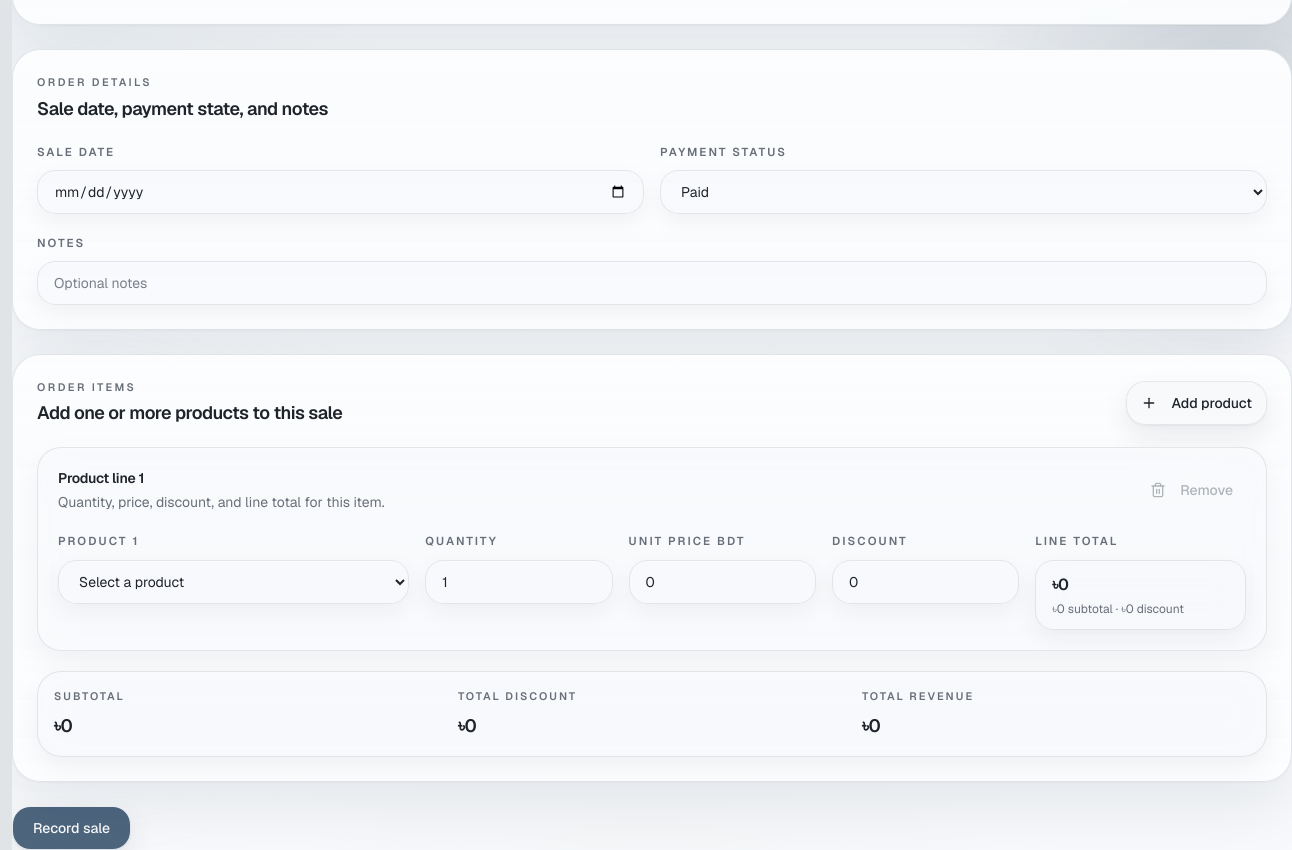
Test: SaleForm › shows order total summary
(page scrolled)
Step 1. Select "Soap · SOAP-01 · Suggested ৳1,200 · BD stock 9" in the dropdown labelled "Product 1" → (234, 582), box [58,560,409,604]
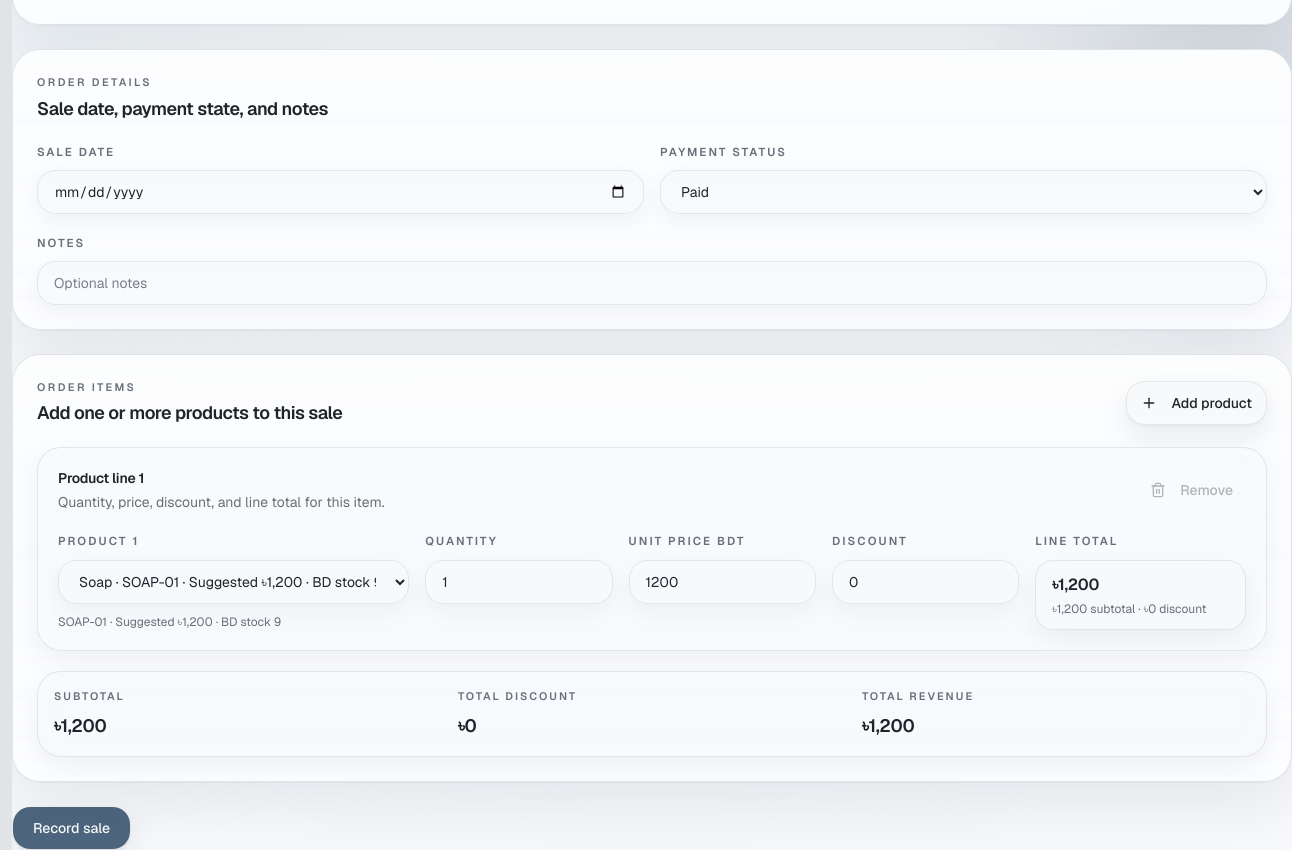
Step 2. Replace the text in the number field labelled "Quantity" with "2" → (519, 582), box [425,560,613,604]
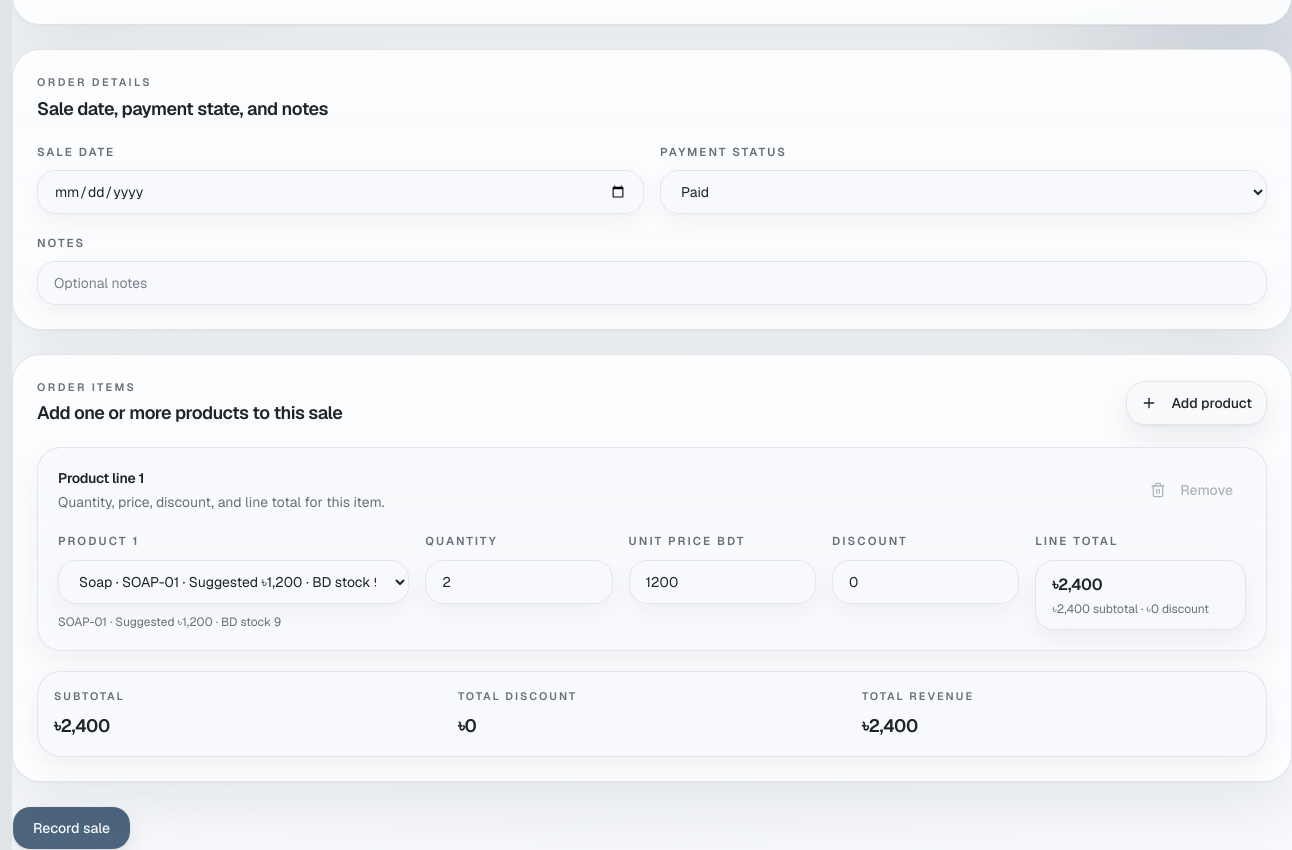
Step 3. Replace the text in the number field labelled "Unit price BDT" with "1000" → (722, 582), box [629,560,816,604]
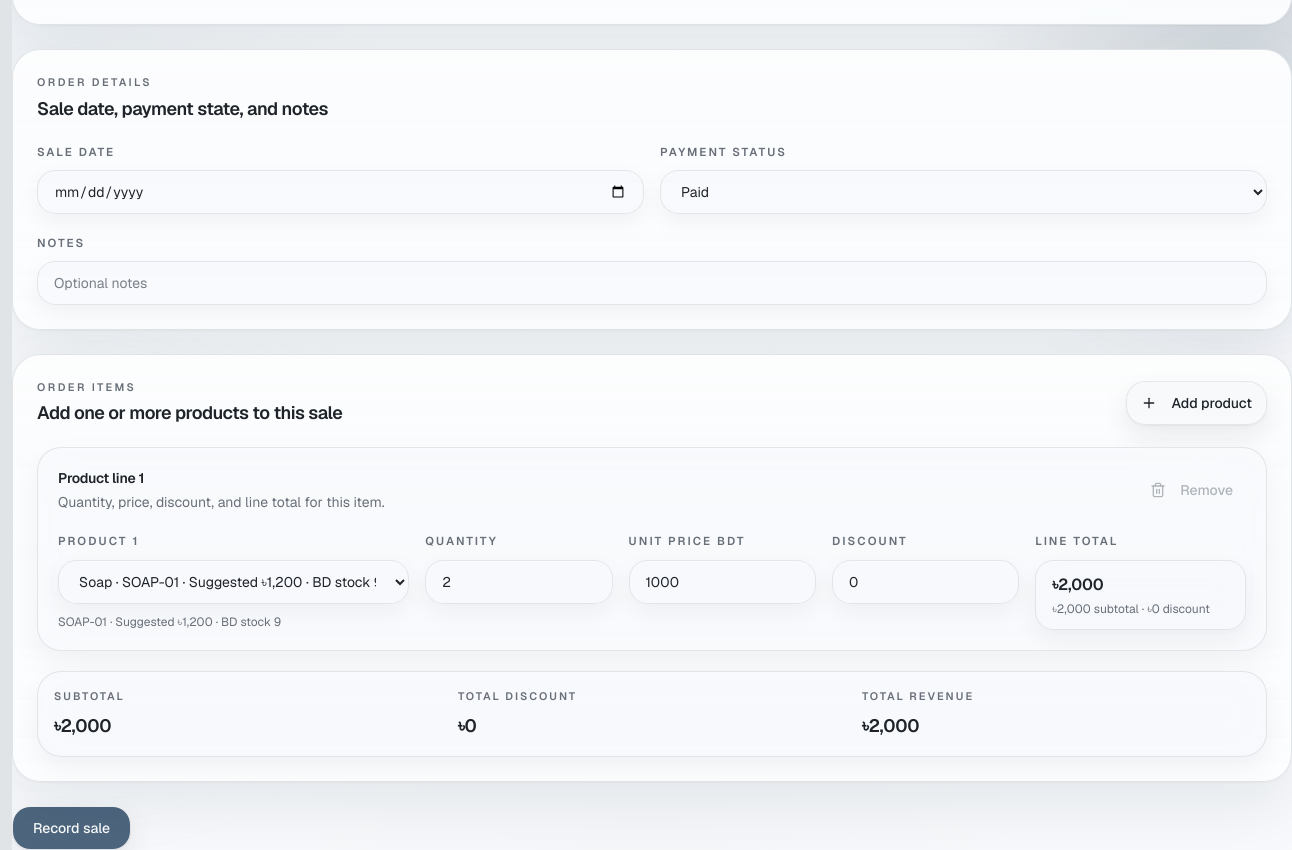
Step 4. Replace the text in the number field labelled "Discount" with "100" → (926, 582), box [832,560,1019,604]
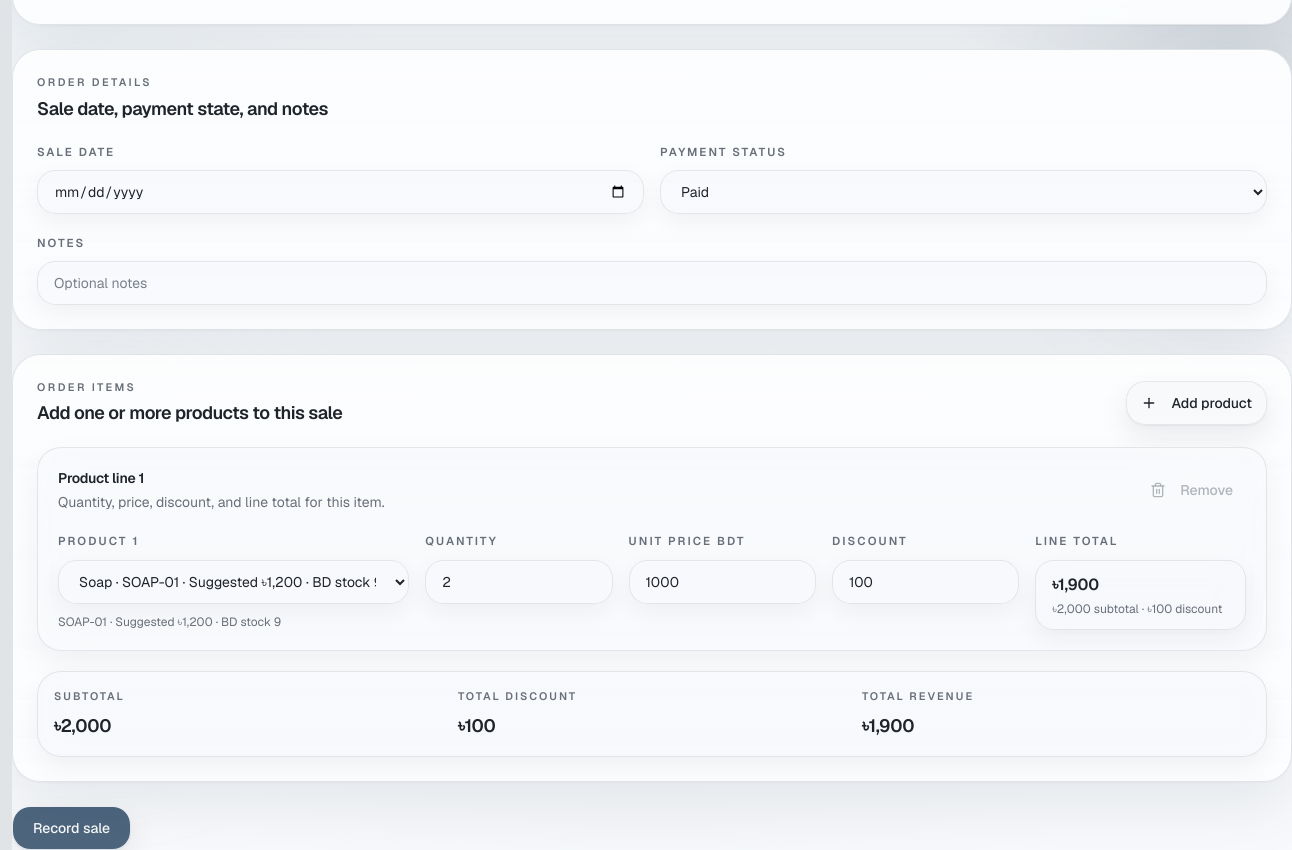
Now the text "৳2,000" is shown, box [54,714,111,737]
Now the text "৳100" is shown, box [458,714,495,737]
Now the 1st text "৳1,900" is shown, box [1052,574,1099,595]
